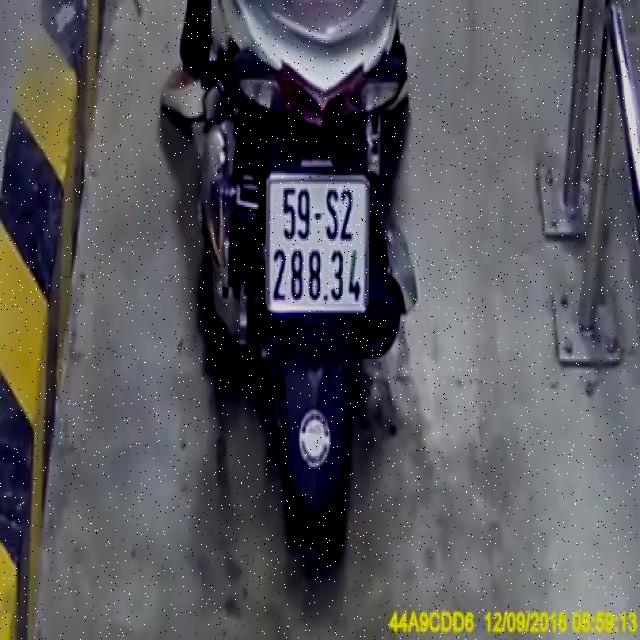2: (272, 247, 288, 302), (340, 187, 355, 242)
3: (330, 249, 345, 301)
4: (347, 247, 362, 305)
5: (281, 186, 297, 240)
8: (289, 248, 305, 304), (307, 248, 322, 302)
9: (297, 186, 312, 242)
S: (326, 187, 340, 242)
